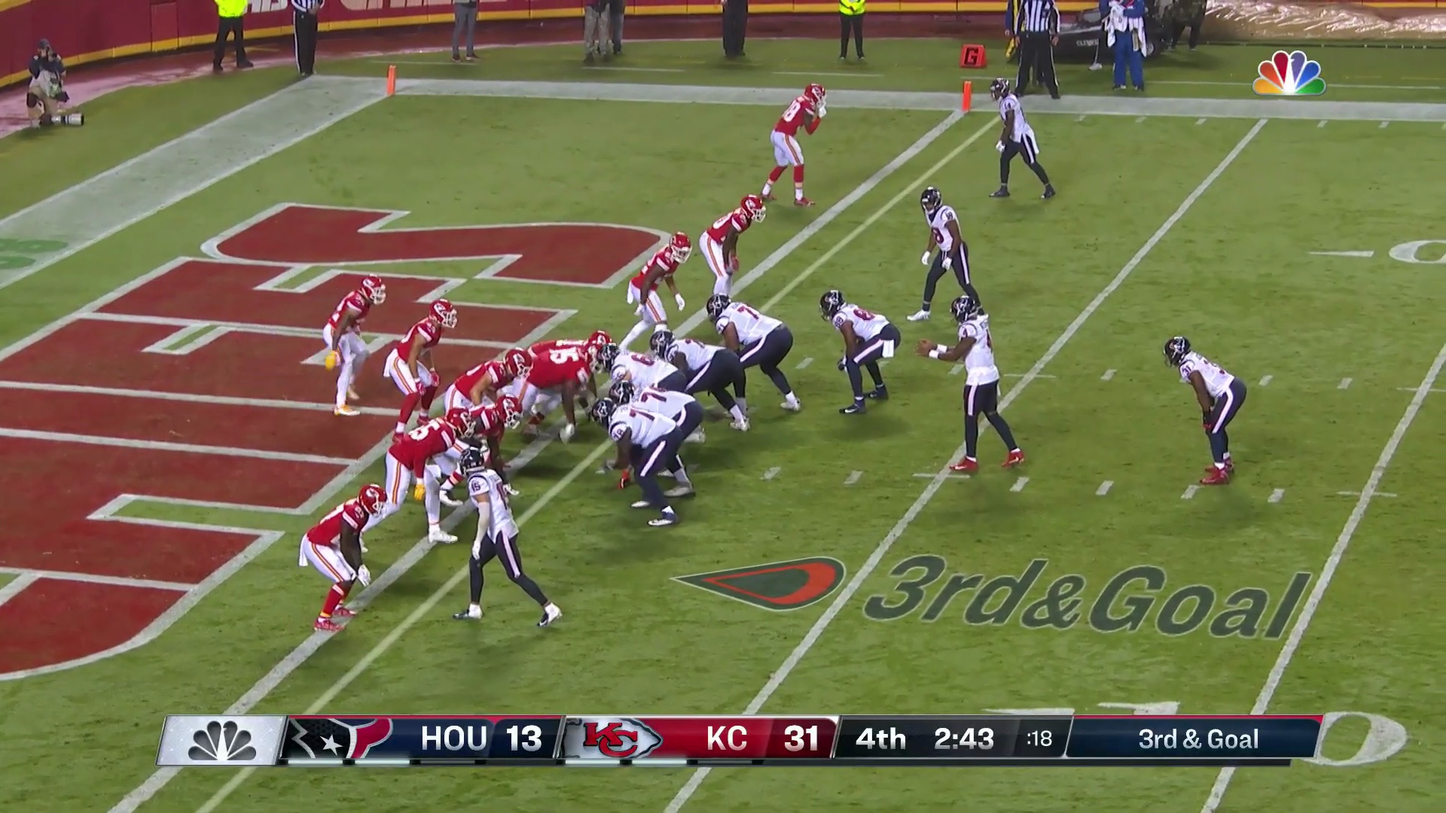Player: (606, 388, 695, 492), (611, 351, 701, 453), (523, 336, 600, 436), (385, 411, 455, 517), (456, 349, 531, 440), (459, 379, 521, 472), (612, 347, 684, 392)
